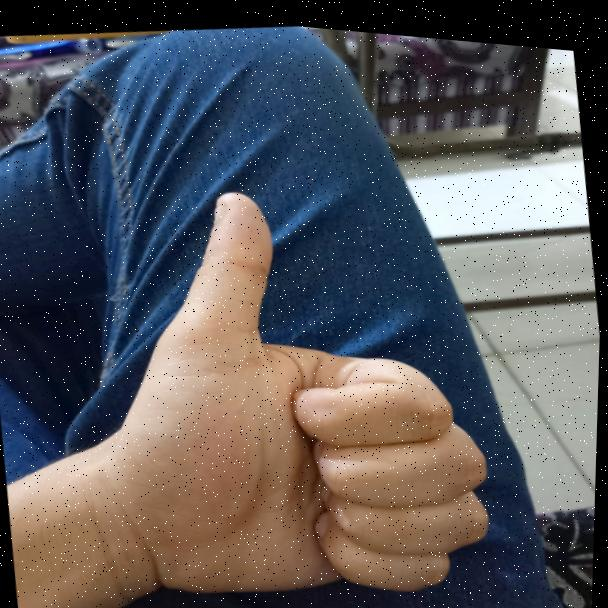five: (112, 147, 515, 608)
